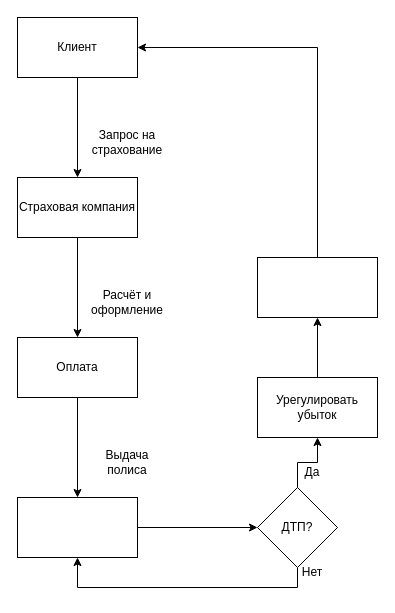
Some shapes in this 395 by 613 pixel diagram are drawn without their labels. The centre of each missing label's shape, as x and y in pixels:
"Выплатить клиенту" belongs at (317,287).
"Обслуживание в течении срока" belongs at (77,527).
